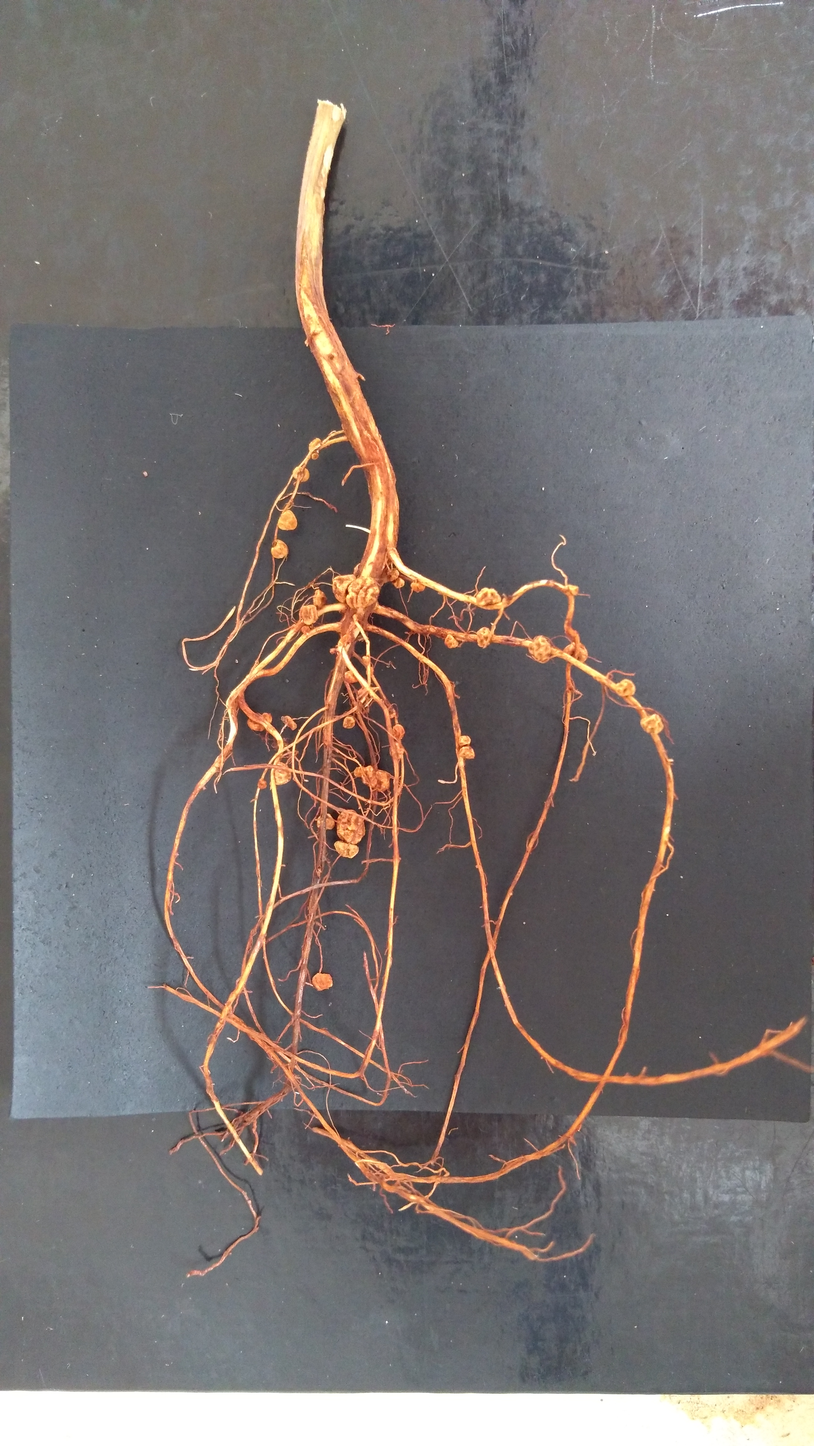nodule: (345, 576, 380, 608), (336, 809, 366, 845), (331, 574, 356, 603), (527, 635, 552, 662), (562, 641, 589, 663), (353, 765, 377, 788), (476, 587, 503, 607), (640, 713, 665, 734), (334, 840, 360, 859), (247, 712, 272, 731), (311, 972, 334, 992), (274, 760, 292, 785), (277, 509, 297, 531), (298, 605, 319, 625), (614, 678, 636, 697), (375, 769, 390, 793), (271, 539, 289, 559), (476, 626, 492, 648), (292, 465, 310, 483), (316, 813, 335, 830), (388, 741, 405, 760), (313, 589, 327, 609), (458, 745, 475, 760), (343, 669, 360, 684), (444, 633, 459, 649), (281, 715, 297, 730), (391, 723, 405, 740), (272, 736, 287, 749), (387, 568, 400, 582), (410, 581, 425, 593), (391, 577, 406, 589), (567, 583, 580, 596), (342, 716, 355, 729), (308, 438, 321, 451), (384, 706, 397, 719), (458, 734, 471, 746), (357, 630, 369, 642), (340, 633, 351, 645), (356, 687, 369, 697), (257, 779, 267, 790), (352, 563, 361, 575), (365, 666, 374, 676), (310, 452, 320, 461), (362, 655, 370, 665), (348, 621, 356, 631), (301, 625, 310, 633), (329, 647, 336, 654)
